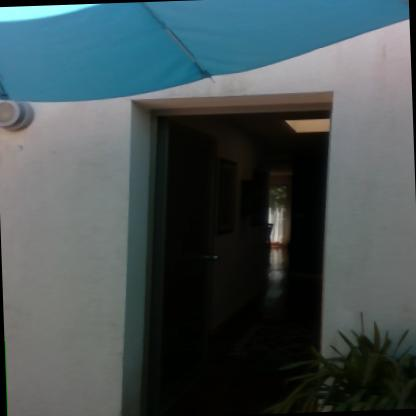open: (101, 82, 356, 416)
